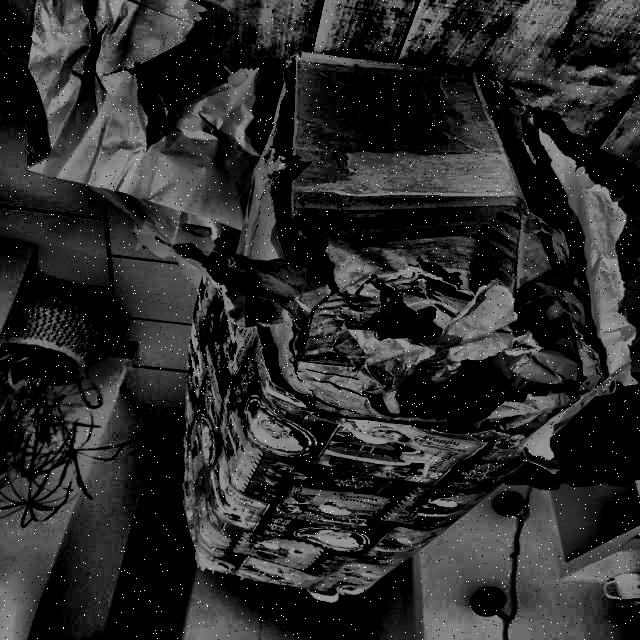box: (168, 45, 614, 613)
hole: (367, 271, 521, 415)
